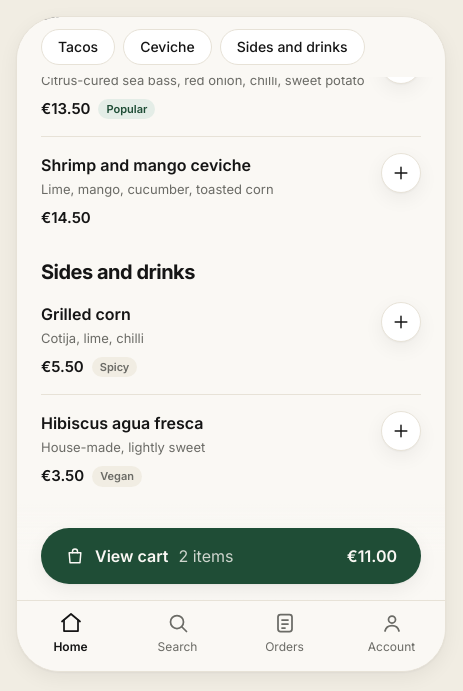
it: Restaurant page › adds dishes with the stepper and shows the cart bar with count and total
The width and height of the screenshot is (463, 691).
Earlier steps of the test are not shown.
(page scrolled)
Click the button named "Add Hibiscus agua fresca". click: click(401, 431)
box: [381, 411, 421, 451]
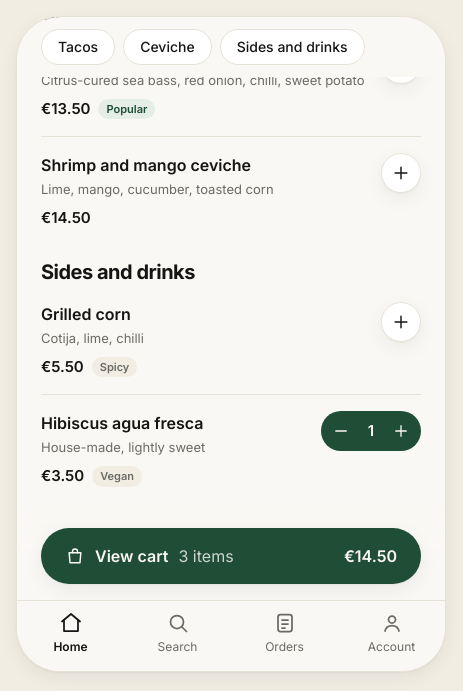
expect the button "View cart 3 items €14.50" is shown: met, box [41, 528, 421, 584]
